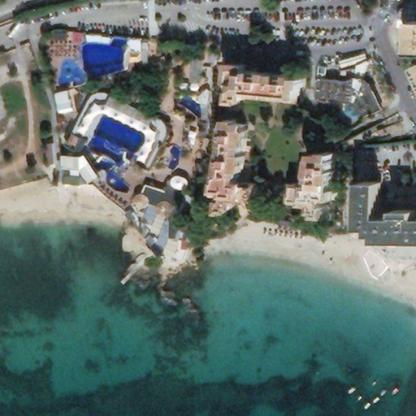ship: (388, 381, 402, 397), (343, 382, 357, 395), (378, 384, 388, 398), (370, 392, 380, 406), (361, 399, 371, 412), (369, 374, 377, 388)
